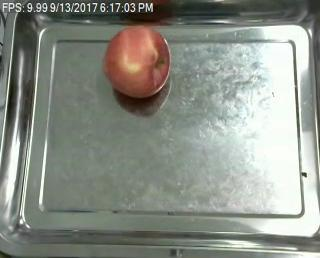apple: (102, 22, 171, 97)
